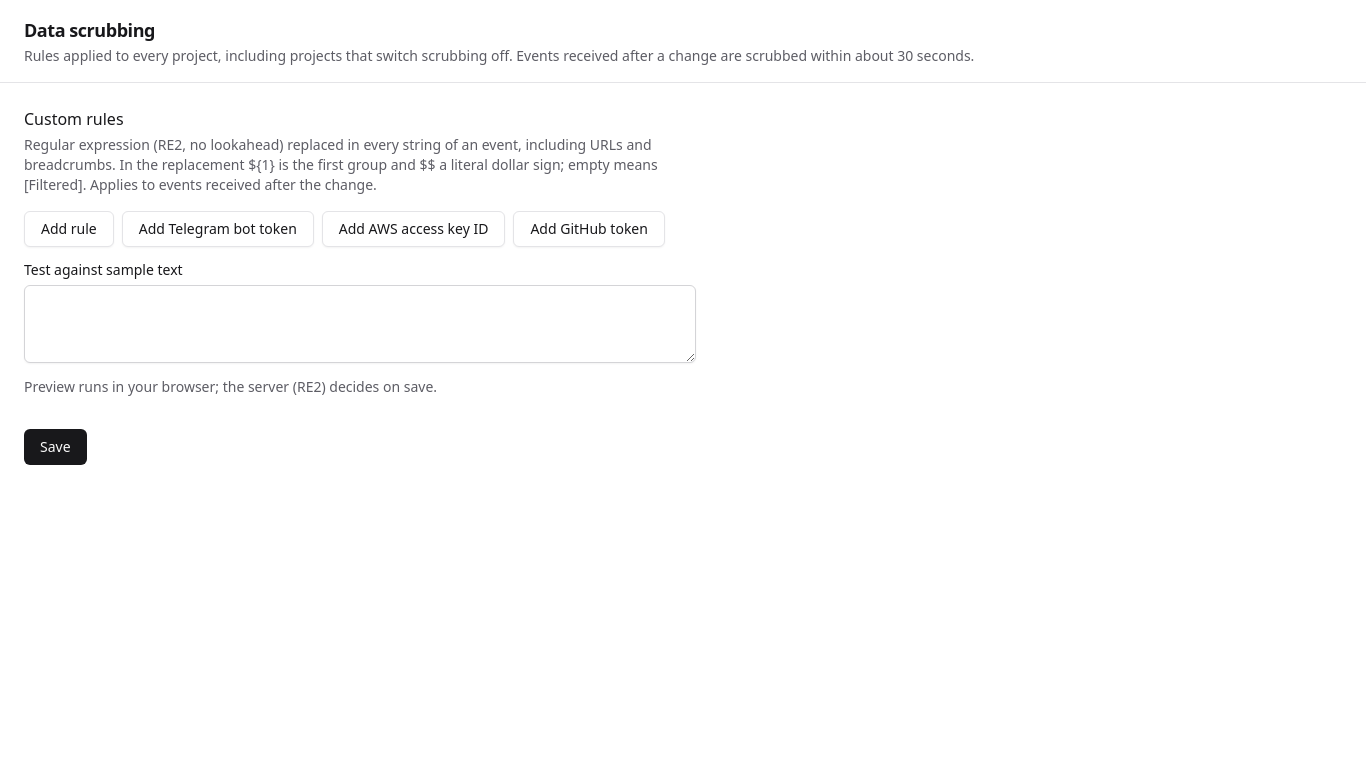
it: GlobalDataScrubbingPage › saves the edited rules
The width and height of the screenshot is (1366, 768).
Click the button "Add AWS access key ID" at point(414, 229), box [322,211,505,247]
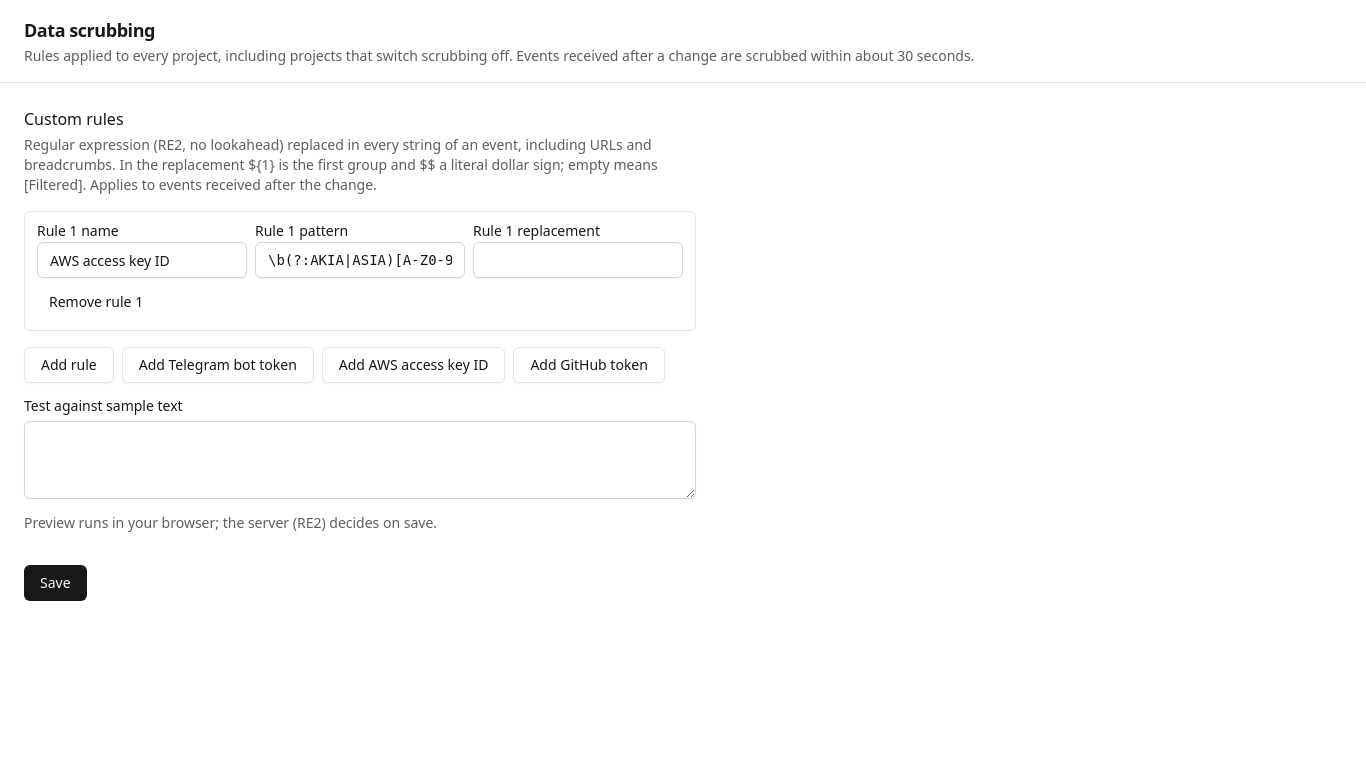
Click the button "Save" at point(55, 583), box [24,565,87,601]
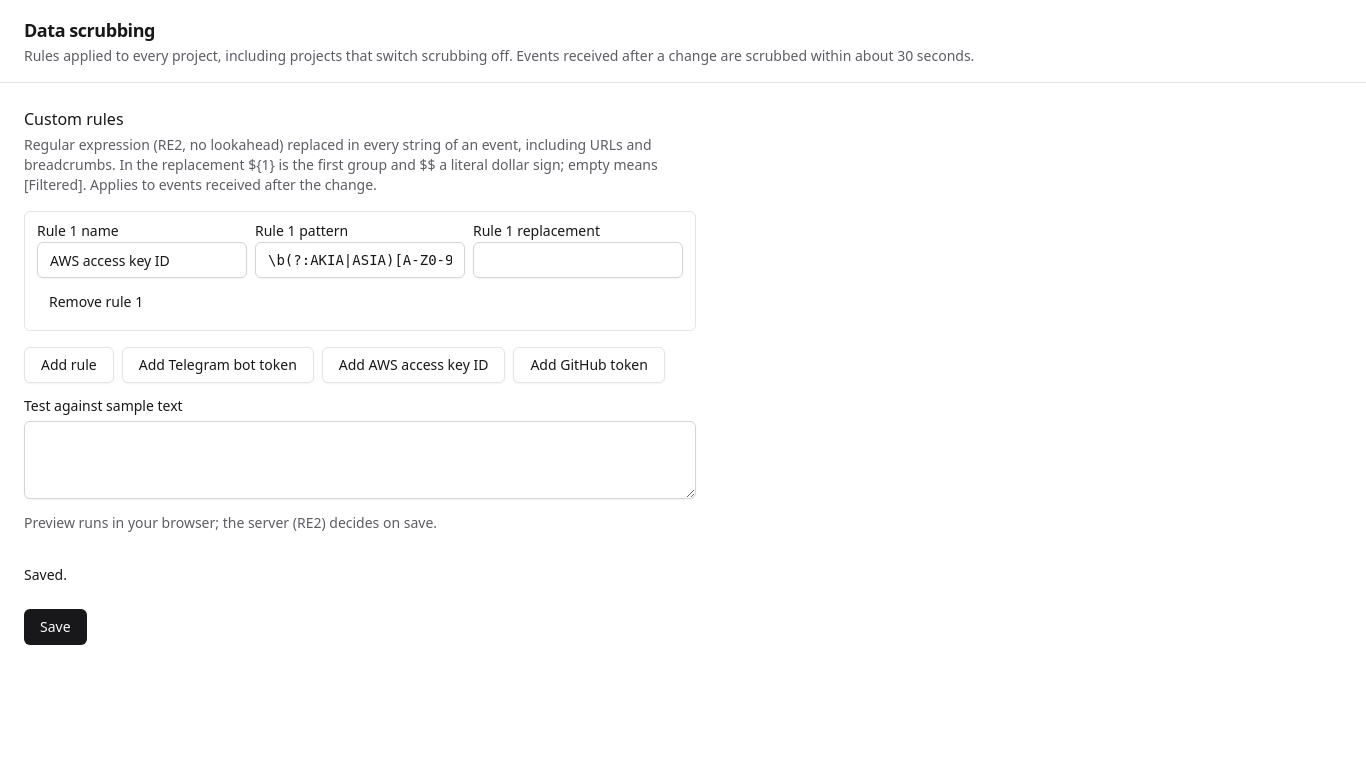
Expected: the text "Saved." is shown, [24,565,67,584]
